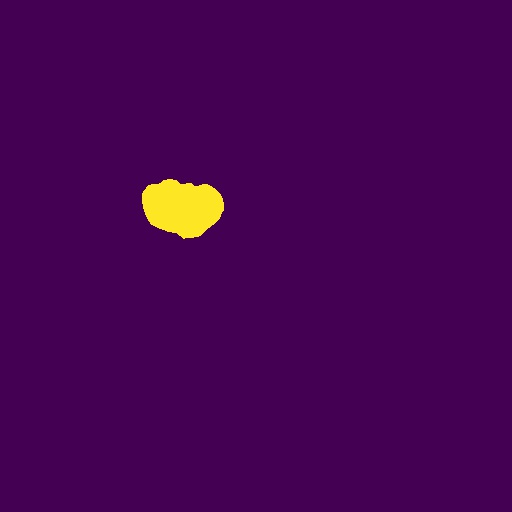Menigiomia_tumour: (142, 179, 224, 239)
